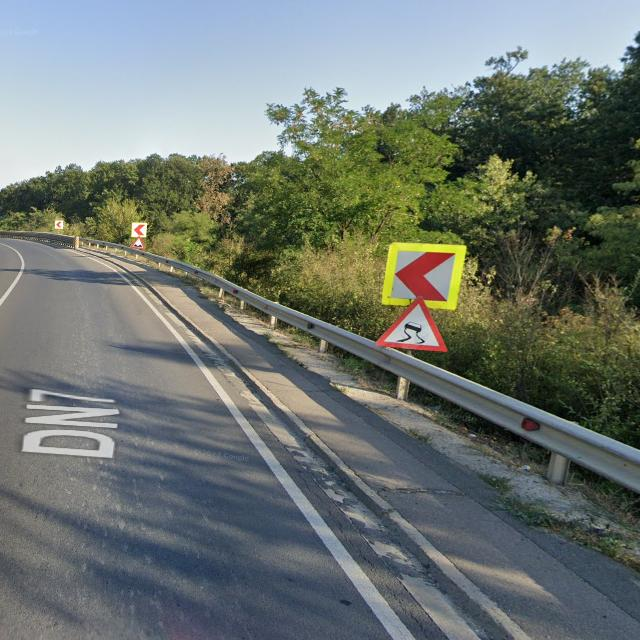warn_slippery_road: (374, 298, 448, 350), (130, 236, 145, 249)
